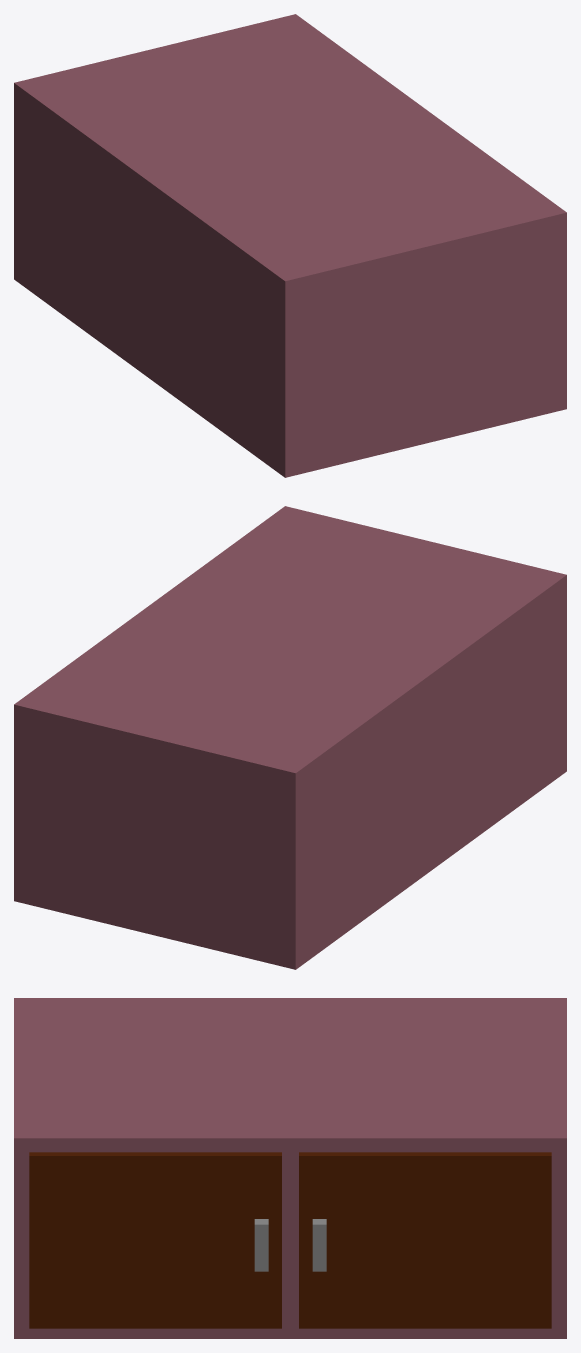
The model's file is Res01_Kitchen_HangBox2.fbx.
3 views of the same model, one above another, from view 1: azimuth 30°, elevation 25°; view 2: azimuth 150°, elevation 25°; view 3: azimuth 270°, elevation 25° (orthographic).
Parts seen in each view (by area): view 1: Res01_Kitchen_HangBox2; view 2: Res01_Kitchen_HangBox2; view 3: Res01_Kitchen_HangBox2.
Part boxes in pixels (x1,y1,x2,y2): Res01_Kitchen_HangBox2: (14, 14, 566, 477); Res01_Kitchen_HangBox2: (14, 506, 566, 969); Res01_Kitchen_HangBox2: (14, 998, 566, 1338).
Size of the model in its own units: 128 by 80 by 200.
